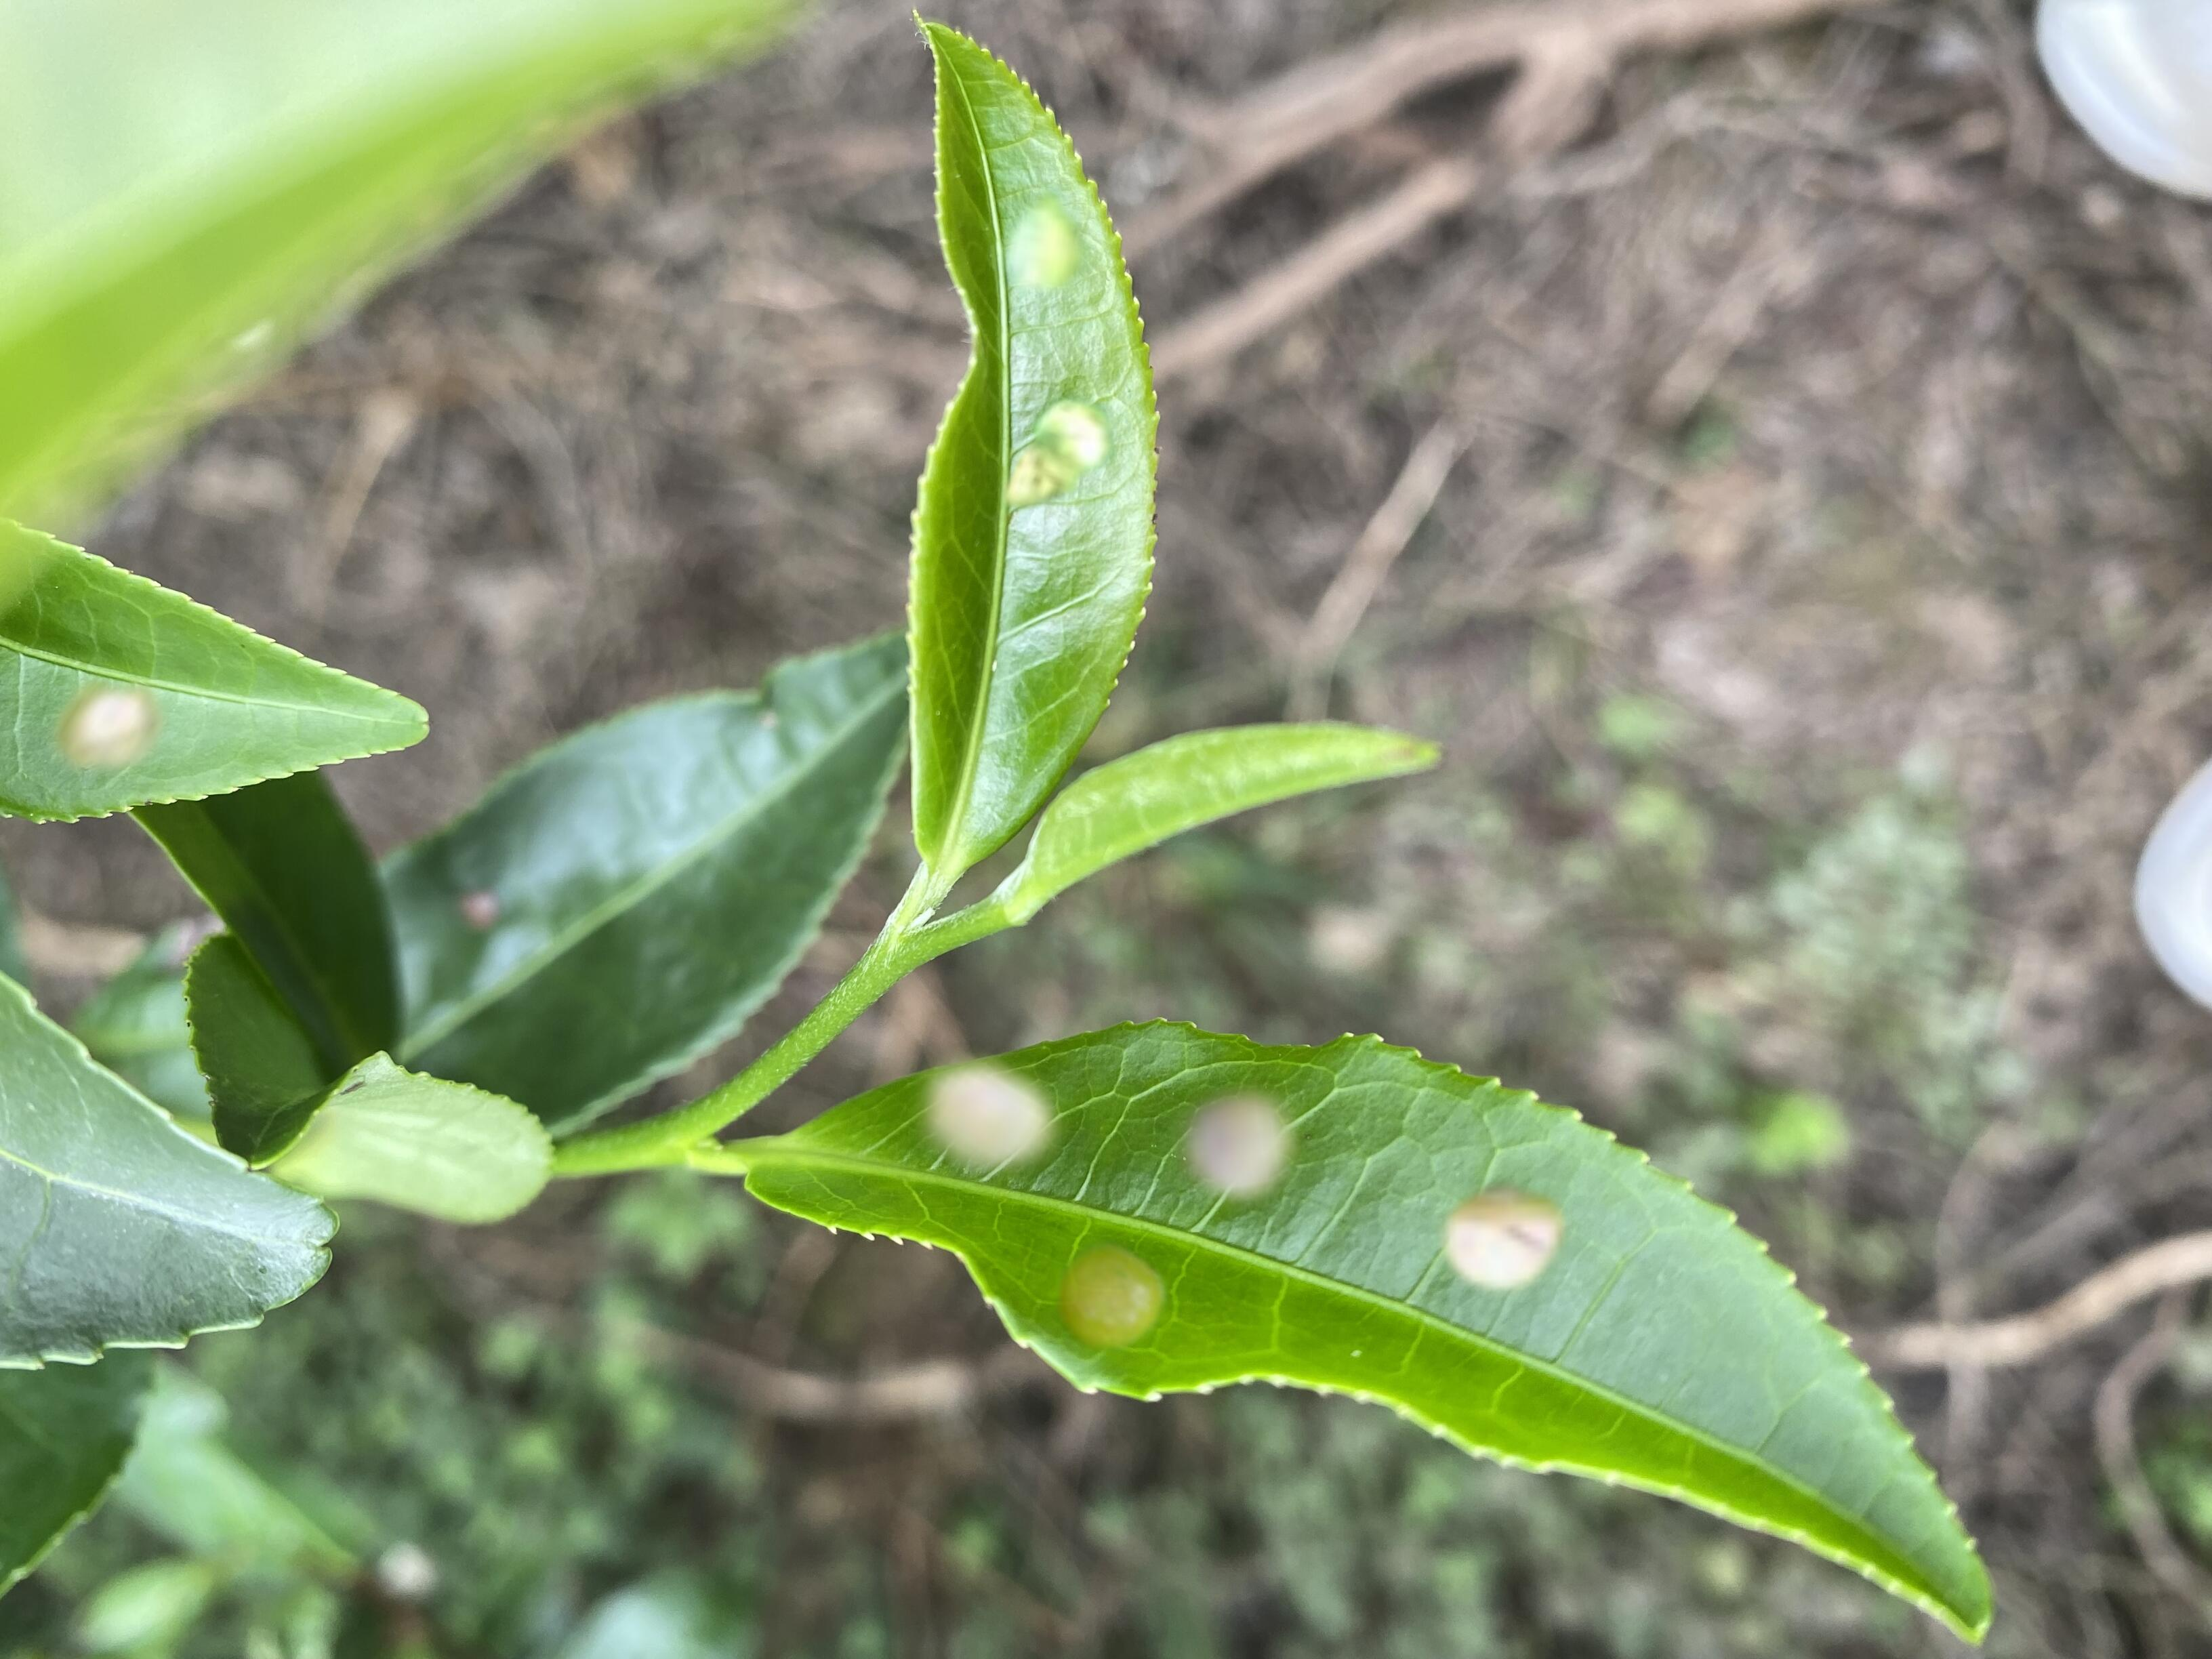chabing_high: (745, 1016, 1994, 1643), (900, 21, 1162, 877)
chabing_low: (0, 514, 430, 828)
